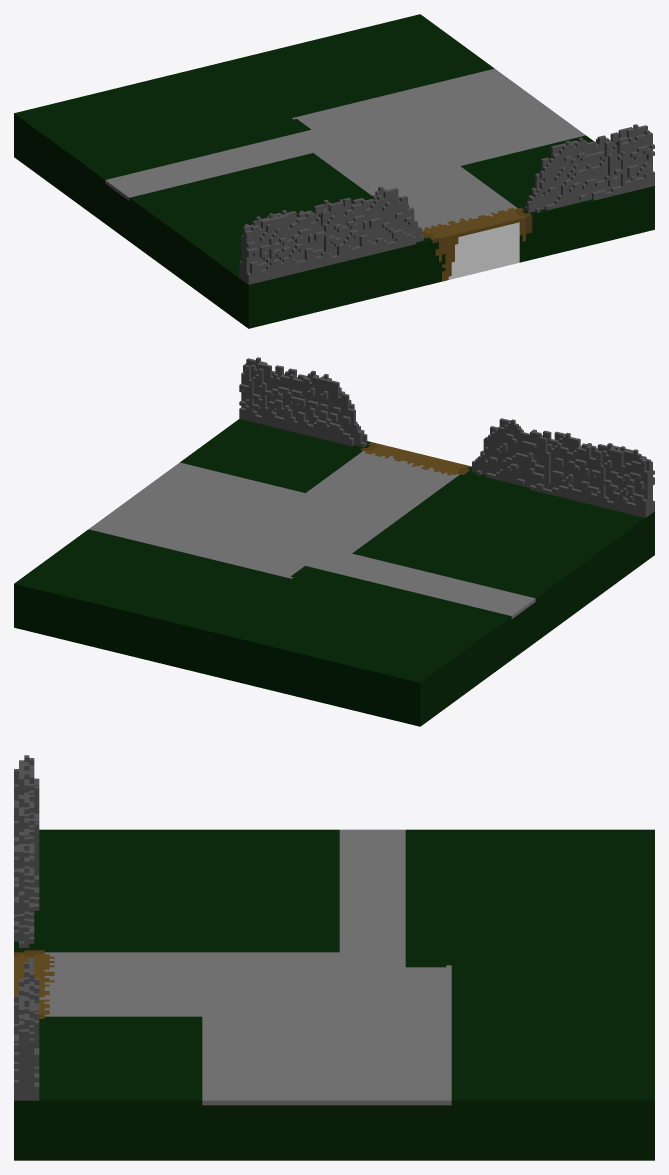
The model's file is map-45.obj.
3 renders of one model, top to bottom at view 1: azimuth 30°, elevation 25°; view 2: azimuth 150°, elevation 25°; view 3: azimuth 270°, elevation 25°, orthographic. The views are drawn at different scales.
Parts seen in each view (by area): view 1: map-45; view 2: map-45; view 3: map-45.
Part boxes in pixels (x1,y1,x2,y2): map-45: [14, 14, 654, 328]; map-45: [14, 357, 654, 726]; map-45: [14, 755, 654, 1160].
Bounding box in the file's own units: 126 × 31 × 126.
1 material, 1 textured.
